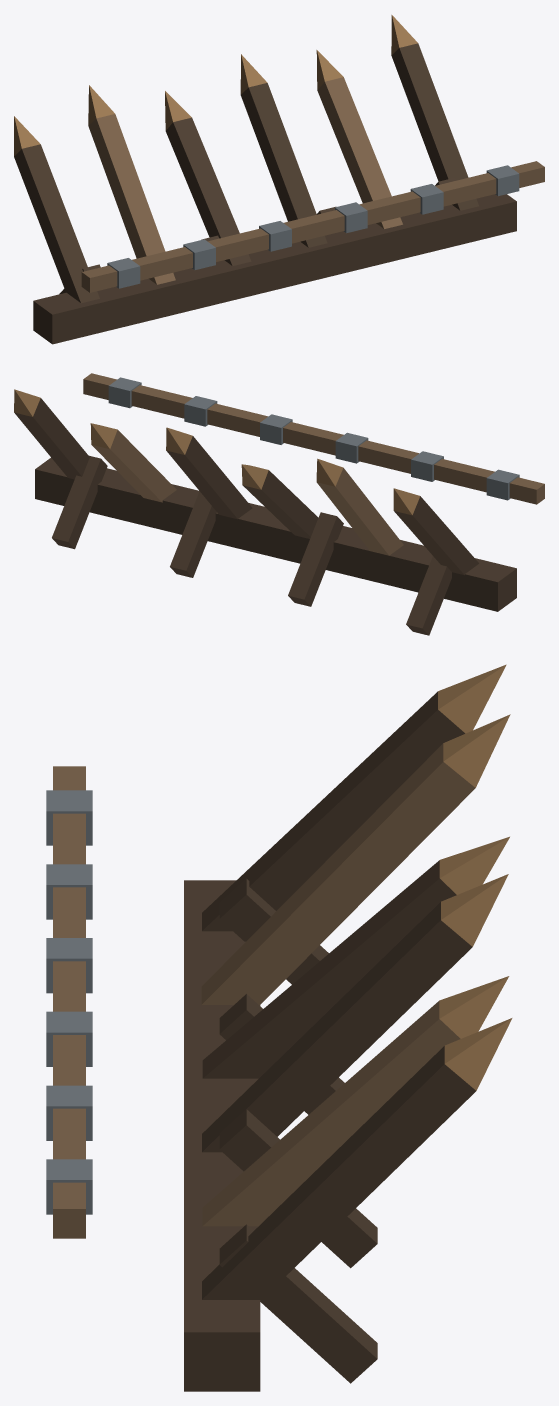
Rendered from base_spikes.glb.
3 views of the same model, one above another, from view 1: azimuth 30°, elevation 25°; view 2: azimuth 150°, elevation 25°; view 3: azimuth 270°, elevation 25° (orthographic). The views are drawn at different scales.
Parts seen in each view (by area): view 1: base_spikes; view 2: base_spikes; view 3: base_spikes.
Part boxes in pixels (x1=…): base_spikes: x1=14, y1=15, x2=544, y2=344; base_spikes: x1=14, y1=373, x2=544, y2=635; base_spikes: x1=46, y1=664, x2=512, y2=1391.
Size of what is drawn, in the model's own units: 1.96 by 0.7643 by 0.8549.
Materials: 1 (1 with a texture image).
